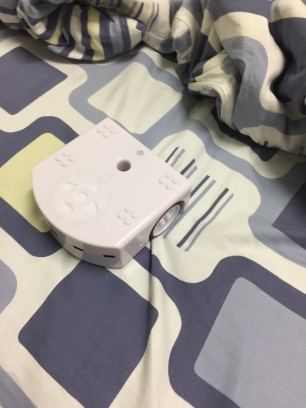thymio: (24, 112, 196, 278)
